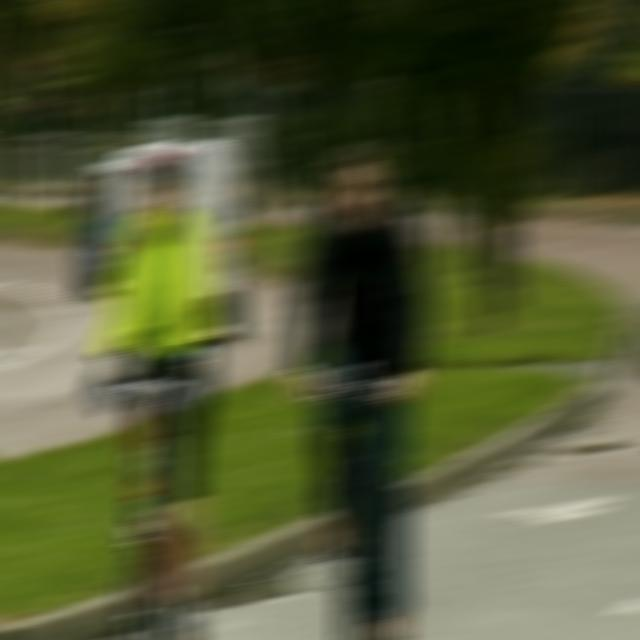Without Helmet: (321, 135, 392, 236)
